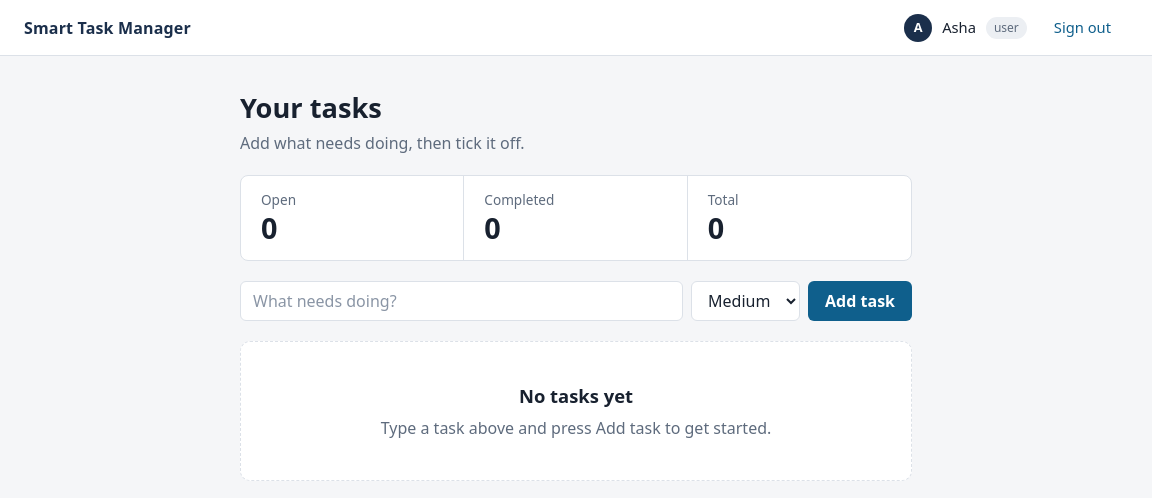
it: adding a task sends it to the server and shows it
Expected: the heading "No tasks yet" is shown, [519,383,633,408]
Step 1. Type "Prepare for interview" into the field named "Task title" → x=462, y=301, box [240,281,683,321]
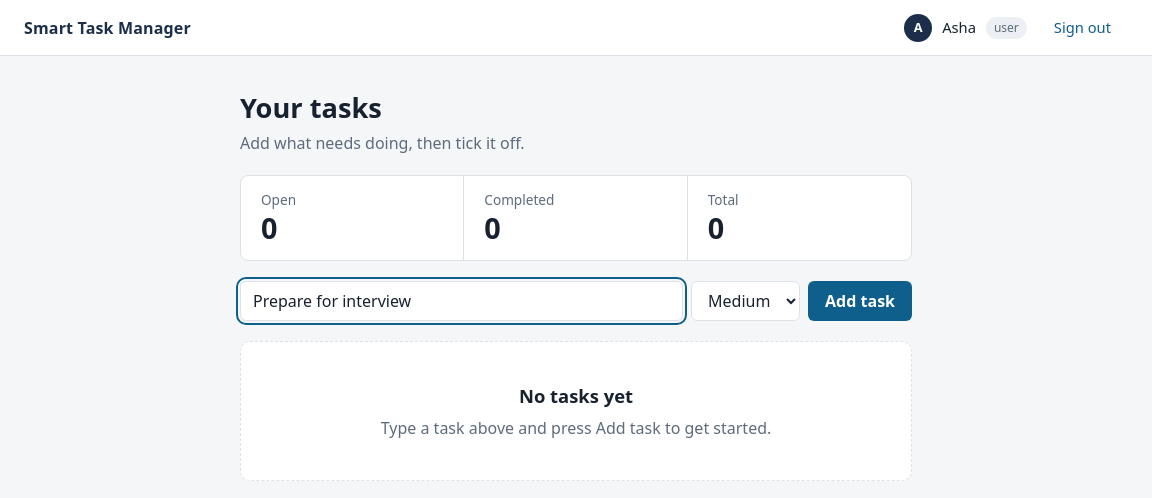
Step 2. Select "High" in the dropdown named "Priority" → x=746, y=301, box [691,281,800,321]
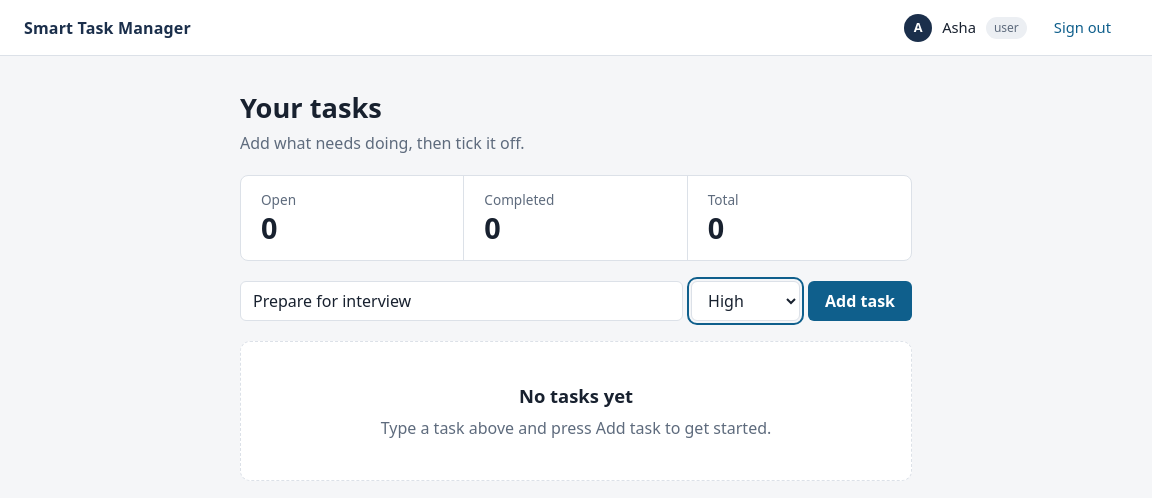
Step 3. Click the button "Add task" → x=860, y=301, box [808,281,912,321]
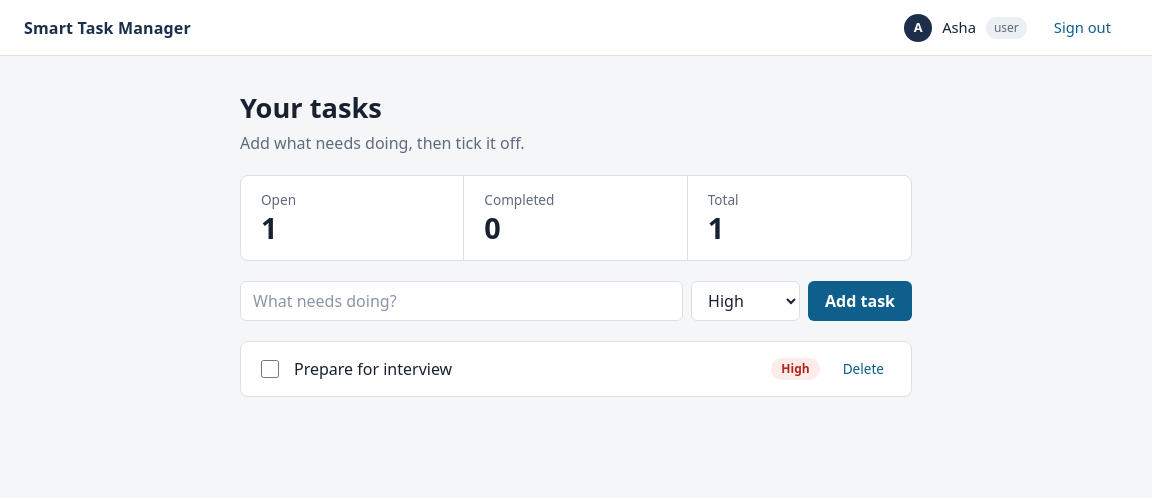
Now the text "Prepare for interview" is shown, box [294,358,452,380]
